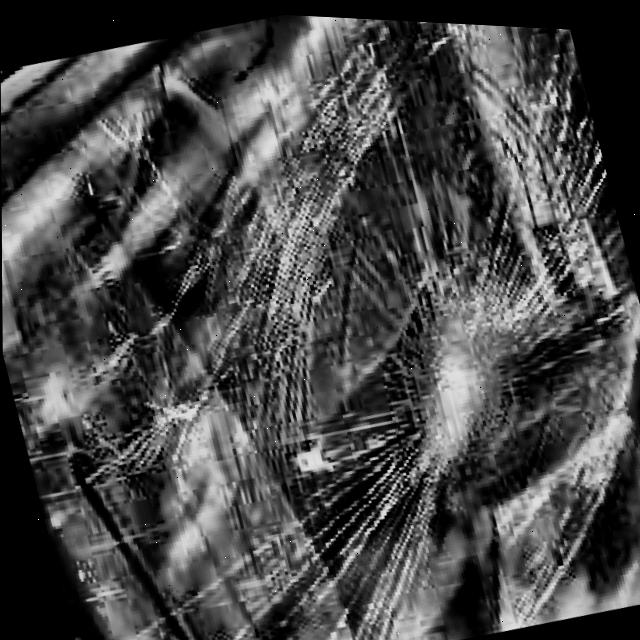glass_shatter: (346, 259, 557, 519)
